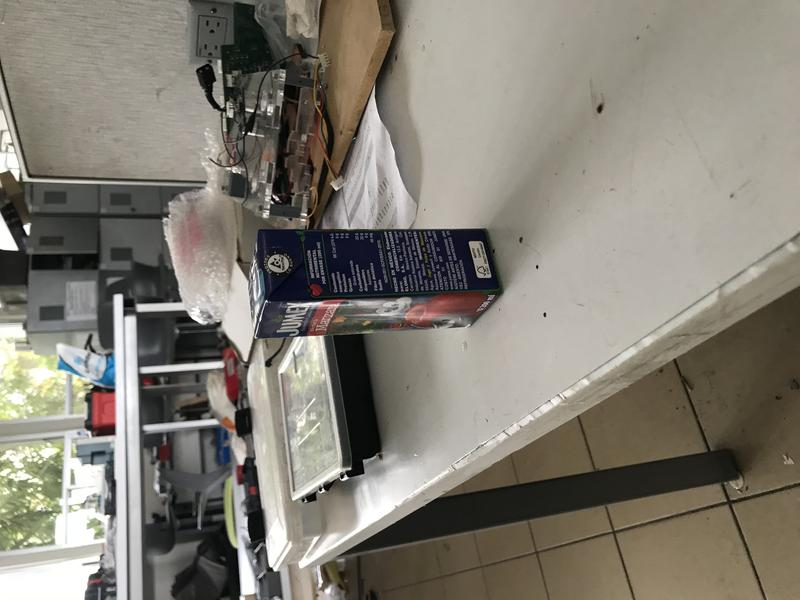jumex_cajita: (248, 228, 506, 341)
